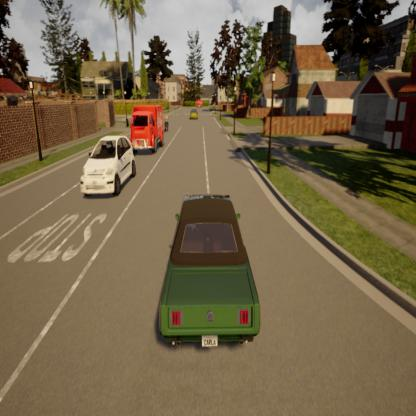Cars: (148, 183, 271, 369), (76, 132, 137, 202), (125, 96, 168, 160), (190, 106, 200, 122)
